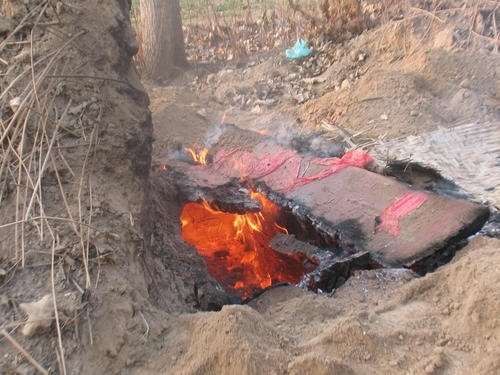fire: (179, 180, 296, 296), (185, 142, 210, 163)
